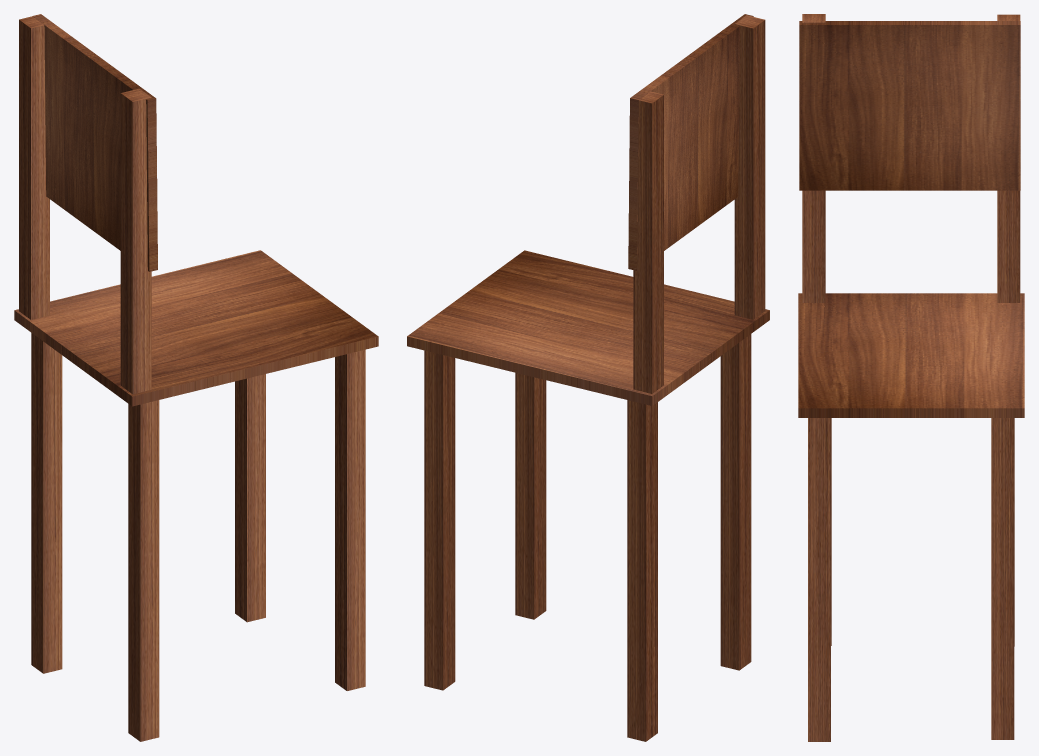
File: wood_chair.obj
3 renders of one model, left to right at view 1: azimuth 30°, elevation 25°; view 2: azimuth 150°, elevation 25°; view 3: azimuth 270°, elevation 25°, orthographic. The views are drawn at different scales.
Parts seen in each view (by area): view 1: Plane, Plane.002, Cube_Cube.001, Cube.002_Cube.003, Cube.001_Cube.002, Cube.006, Cube.004_Cube.006, Cube.003_Cube.004; view 2: Plane, Plane.002, Cube.003_Cube.004, Cube.002_Cube.003, Cube_Cube.001, Cube.006, Cube.004_Cube.006, Cube.001_Cube.002; view 3: Plane.002, Plane, Cube.003_Cube.004, Cube.001_Cube.002, Cube.006, Cube.004_Cube.006.
Part boxes in pixels (bbox=[...]): Plane: bbox=[14, 250, 378, 406]; Plane.002: bbox=[32, 14, 157, 271]; Cube_Cube.001: bbox=[128, 400, 159, 741]; Cube.002_Cube.003: bbox=[31, 333, 62, 673]; Cube.001_Cube.002: bbox=[335, 349, 365, 690]; Cube.006: bbox=[120, 88, 151, 394]; Cube.004_Cube.006: bbox=[19, 16, 49, 319]; Cube.003_Cube.004: bbox=[235, 374, 265, 622]; Plane: bbox=[407, 250, 769, 405]; Plane.002: bbox=[628, 14, 753, 270]; Cube.003_Cube.004: bbox=[424, 350, 455, 690]; Cube.002_Cube.003: bbox=[627, 400, 657, 741]; Cube_Cube.001: bbox=[720, 334, 751, 670]; Cube.006: bbox=[734, 15, 765, 319]; Cube.004_Cube.006: bbox=[633, 91, 663, 393]; Cube.001_Cube.002: bbox=[515, 372, 546, 619]; Plane.002: bbox=[799, 21, 1020, 190]; Plane: bbox=[798, 293, 1024, 417]; Cube.003_Cube.004: bbox=[991, 418, 1014, 739]; Cube.001_Cube.002: bbox=[808, 418, 830, 741]; Cube.006: bbox=[802, 14, 825, 302]; Cube.004_Cube.006: bbox=[997, 14, 1020, 302].
Bounding box in the file's own units: 9.03 × 22.64 × 7.49.
Materials: 1 (1 with a texture image).
